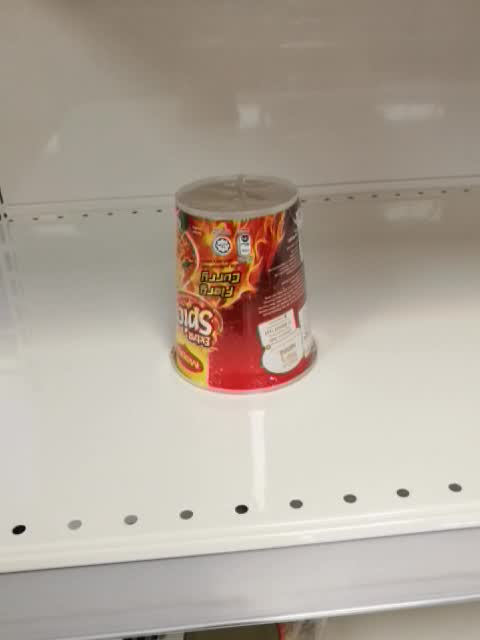maggi: (168, 174, 319, 395)
